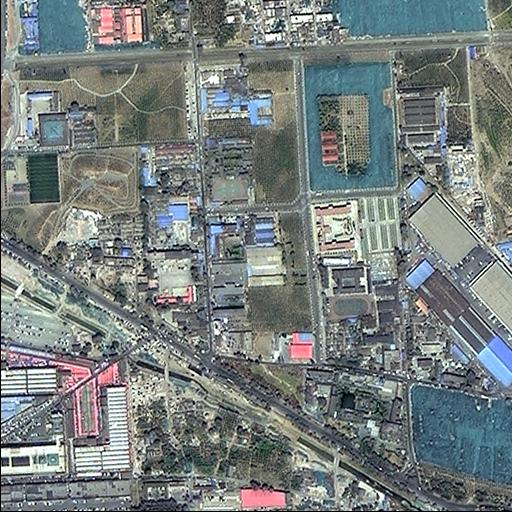school: (315, 264, 379, 325), (199, 137, 252, 204)
